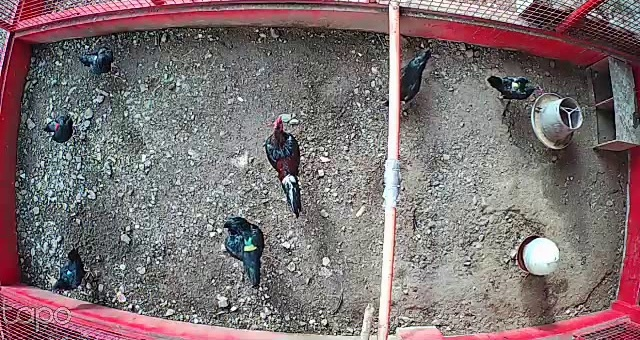Chicken: (220, 213, 270, 287), (383, 43, 432, 111), (485, 70, 545, 104), (50, 247, 91, 296), (74, 44, 124, 83), (39, 111, 83, 146)
Rooster: (259, 111, 307, 214)
Saddle_Color_Blue: (66, 270, 72, 274)
Saddle_Color_Yellow: (510, 79, 521, 94)
Saddle_Color_YellowGreen: (240, 234, 259, 255)
